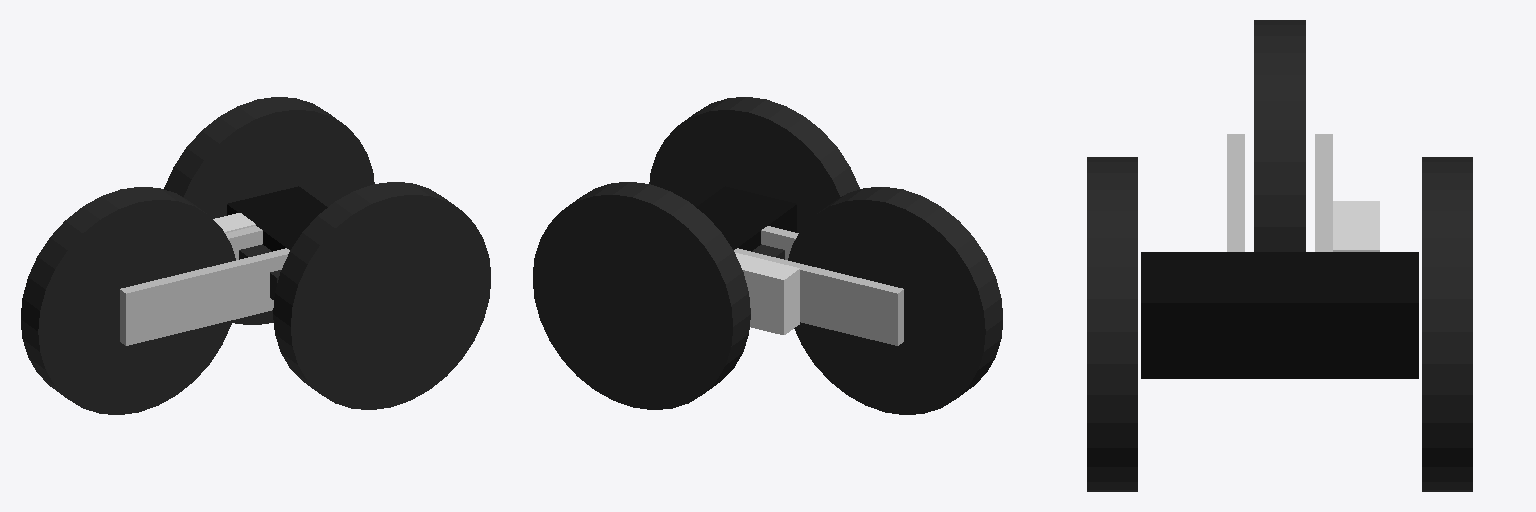
The robot description file, URDF, robot "helhest":
<?xml version="1.0" ?>
<!-- =================================================================================== -->
<!-- |    This document was autogenerated by xacro from [local-path]/helhest/src/helhest-sim/helhest_description/urdf/helhest.urdf.xacro | -->
<!-- |    EDITING THIS FILE BY HAND IS NOT RECOMMENDED                                 | -->
<!-- =================================================================================== -->
<robot name="helhest">
  <!-- soft|omni -->
  <link name="base_link">
    <visual>
      <origin xyz="-0.047 0 0"/>
      <geometry>
        <box size="0.26 0.6 0.18"/>
      </geometry>
      <material name="base_link_color">
        <color rgba="0.1 0.1 0.1 1.0"/>
      </material>
    </visual>
    <collision>
      <origin xyz="-0.047 0 0"/>
      <geometry>
        <box size="0.26 0.6 0.18"/>
      </geometry>
    </collision>
    <inertial>
      <mass value="19"/>
      <origin rpy="0 0 0" xyz="-0.047 0 0"/>
      <inertia ixx="0.6213" ixy="0.0" ixz="0.0" iyy="0.15833333333333333" iyz="0.0" izz="0.6770333333333333"/>
    </inertial>
  </link>
  <link name="base_footprint"/>
  <joint name="base_footprint_j" type="fixed">
    <parent link="base_link"/>
    <child link="base_footprint"/>
    <origin rpy="0 0 0" xyz="0 0 -0.36"/>
  </joint>
  <link name="base_link_center"/>
  <joint name="base_link_center_j" type="fixed">
    <parent link="base_link"/>
    <child link="base_link_center"/>
    <origin rpy="0 0 0" xyz="-0.047 0 0"/>
  </joint>
  <link name="battery">
    <visual>
      <geometry>
        <box size="0.25 0.1 0.19"/>
      </geometry>
      <material name="battery_color">
        <color rgba="0.9 0.9 0.9 1.0"/>
      </material>
    </visual>
    <collision>
      <geometry>
        <box size="0.25 0.1 0.19"/>
      </geometry>
    </collision>
    <inertial>
      <mass value="2"/>
      <origin rpy="0 0 0" xyz="0 0 0"/>
      <inertia ixx="0.007683333333333334" ixy="0.0" ixz="0.0" iyy="0.01643333333333333" iyz="0.0" izz="0.012083333333333335"/>
    </inertial>
  </link>
  <joint name="battery_j" type="fixed">
    <parent link="base_link"/>
    <child link="battery"/>
    <origin rpy="0 0 0" xyz="-0.302 0.165 0"/>
  </joint>
  <link name="left_motor">
    <visual>
      <geometry>
        <box size="0.085 0.24 0.085"/>
      </geometry>
      <material name="left_motor_color">
        <color rgba="0.2 0.2 0.2 1.0"/>
      </material>
    </visual>
    <collision>
      <geometry>
        <box size="0.085 0.24 0.085"/>
      </geometry>
    </collision>
    <inertial>
      <mass value="7"/>
      <origin rpy="0 0 0" xyz="0 0 0"/>
      <inertia ixx="0.037814583333333325" ixy="0.0" ixz="0.0" iyy="0.008429166666666666" iyz="0.0" izz="0.037814583333333325"/>
    </inertial>
  </link>
  <joint name="left_motor_j" type="fixed">
    <origin xyz="-0.09 0.14 0"/>
    <parent link="base_link"/>
    <child link="left_motor"/>
  </joint>
  <link name="right_motor">
    <visual>
      <geometry>
        <box size="0.085 0.24 0.085"/>
      </geometry>
      <material name="right_motor_color">
        <color rgba="0.2 0.2 0.2 1.0"/>
      </material>
    </visual>
    <collision>
      <geometry>
        <box size="0.085 0.24 0.085"/>
      </geometry>
    </collision>
    <inertial>
      <mass value="7"/>
      <origin rpy="0 0 0" xyz="0 0 0"/>
      <inertia ixx="0.037814583333333325" ixy="0.0" ixz="0.0" iyy="0.008429166666666666" iyz="0.0" izz="0.037814583333333325"/>
    </inertial>
  </link>
  <joint name="right_motor_j" type="fixed">
    <origin xyz="-0.09 -0.14 0"/>
    <parent link="base_link"/>
    <child link="right_motor"/>
  </joint>
  <link name="rear_motor">
    <visual>
      <geometry>
        <box size="0.085 0.24 0.085"/>
      </geometry>
      <material name="rear_motor_color">
        <color rgba="0.2 0.2 0.2 1.0"/>
      </material>
    </visual>
    <collision>
      <geometry>
        <box size="0.085 0.24 0.085"/>
      </geometry>
    </collision>
    <inertial>
      <mass value="7"/>
      <origin rpy="0 0 0" xyz="0 0 0"/>
      <inertia ixx="0.037814583333333325" ixy="0.0" ixz="0.0" iyy="0.008429166666666666" iyz="0.0" izz="0.037814583333333325"/>
    </inertial>
  </link>
  <joint name="rear_motor_j" type="fixed">
    <origin xyz="-0.22 -0.04 0"/>
    <parent link="base_link"/>
    <child link="rear_motor"/>
  </joint>
  <link name="left_wheel">
    <visual>
      <origin rpy="1.5707963267948966 0 0"/>
      <geometry>
        <cylinder length="0.11" radius="0.36"/>
      </geometry>
      <material name="left_wheel_color">
        <color rgba="0.2 0.2 0.2 1.0"/>
      </material>
    </visual>
    <collision>
      <origin rpy="1.5707963267948966 0 0"/>
      <geometry>
        <cylinder length="0.11" radius="0.36"/>
      </geometry>
    </collision>
    <inertial>
      <mass value="6"/>
      <origin rpy="1.5707963267948966 0 0" xyz="0 0 0"/>
      <inertia ixx="0.20045000000000002" ixy="0.0" ixz="0.0" iyy="0.20045000000000002" iyz="0.0" izz="0.38880000000000003"/>
    </inertial>
  </link>
  <joint name="left_wheel_j" type="continuous">
    <origin xyz="0.0 0.36 0"/>
    <parent link="base_link"/>
    <child link="left_wheel"/>
    <axis xyz="0 1 0"/>
  </joint>
  <ros2_control name="left_wheel_controller" type="system">
    <hardware>
      <plugin>gz_ros2_control/GazeboSimSystem</plugin>
    </hardware>
    <joint name="left_wheel_j">
      <state_interface name="velocity"/>
      <state_interface name="position"/>
      <command_interface name="velocity"/>
    </joint>
  </ros2_control>
  <link name="right_wheel">
    <visual>
      <origin rpy="1.5707963267948966 0 0"/>
      <geometry>
        <cylinder length="0.11" radius="0.36"/>
      </geometry>
      <material name="right_wheel_color">
        <color rgba="0.2 0.2 0.2 1.0"/>
      </material>
    </visual>
    <collision>
      <origin rpy="1.5707963267948966 0 0"/>
      <geometry>
        <cylinder length="0.11" radius="0.36"/>
      </geometry>
    </collision>
    <inertial>
      <mass value="6"/>
      <origin rpy="1.5707963267948966 0 0" xyz="0 0 0"/>
      <inertia ixx="0.20045000000000002" ixy="0.0" ixz="0.0" iyy="0.20045000000000002" iyz="0.0" izz="0.38880000000000003"/>
    </inertial>
  </link>
  <joint name="right_wheel_j" type="continuous">
    <origin xyz="0.0 -0.36 0"/>
    <parent link="base_link"/>
    <child link="right_wheel"/>
    <axis xyz="0 1 0"/>
  </joint>
  <ros2_control name="right_wheel_controller" type="system">
    <hardware>
      <plugin>gz_ros2_control/GazeboSimSystem</plugin>
    </hardware>
    <joint name="right_wheel_j">
      <state_interface name="velocity"/>
      <state_interface name="position"/>
      <command_interface name="velocity"/>
    </joint>
  </ros2_control>
  <link name="rear_wheel">
    <visual>
      <origin rpy="1.5707963267948966 0 0"/>
      <geometry>
        <cylinder length="0.11" radius="0.36"/>
      </geometry>
      <material name="rear_wheel_color">
        <color rgba="0.2 0.2 0.2 1.0"/>
      </material>
    </visual>
    <collision>
      <origin rpy="1.5707963267948966 0 0"/>
      <geometry>
        <cylinder length="0.11" radius="0.36"/>
      </geometry>
    </collision>
    <inertial>
      <mass value="6"/>
      <origin rpy="1.5707963267948966 0 0" xyz="0 0 0"/>
      <inertia ixx="0.20045000000000002" ixy="0.0" ixz="0.0" iyy="0.20045000000000002" iyz="0.0" izz="0.38880000000000003"/>
    </inertial>
  </link>
  <joint name="rear_wheel_j" type="continuous">
    <origin rpy="0 0 0" xyz="-0.697 0 0"/>
    <parent link="base_link"/>
    <child link="rear_wheel"/>
    <axis xyz="0 1 0"/>
  </joint>
  <ros2_control name="rear_wheel_controller" type="system">
    <hardware>
      <plugin>gz_ros2_control/GazeboSimSystem</plugin>
    </hardware>
    <joint name="rear_wheel_j">
      <state_interface name="velocity"/>
      <state_interface name="position"/>
      <command_interface name="velocity"/>
    </joint>
  </ros2_control>
  <link name="left_wheel_holder">
    <visual>
      <geometry>
        <box size="0.6 0.04 0.18"/>
      </geometry>
      <material name="left_wheel_holder_color">
        <color rgba="0.8 0.8 0.8 1.0"/>
      </material>
    </visual>
    <collision>
      <geometry>
        <box size="0.6 0.04 0.18"/>
      </geometry>
    </collision>
    <inertial>
      <mass value="3"/>
      <origin rpy="0 0 0" xyz="0 0 0"/>
      <inertia ixx="0.008499999999999999" ixy="0.0" ixz="0.0" iyy="0.09809999999999999" iyz="0.0" izz="0.0904"/>
    </inertial>
  </link>
  <joint name="left_wheel_holder_j" type="fixed">
    <parent link="base_link"/>
    <child link="left_wheel_holder"/>
    <origin rpy="0 0 0" xyz="-0.477 0.095 0.0"/>
  </joint>
  <link name="right_wheel_holder">
    <visual>
      <geometry>
        <box size="0.6 0.04 0.18"/>
      </geometry>
      <material name="right_wheel_holder_color">
        <color rgba="0.8 0.8 0.8 1.0"/>
      </material>
    </visual>
    <collision>
      <geometry>
        <box size="0.6 0.04 0.18"/>
      </geometry>
    </collision>
    <inertial>
      <mass value="3"/>
      <origin rpy="0 0 0" xyz="0 0 0"/>
      <inertia ixx="0.008499999999999999" ixy="0.0" ixz="0.0" iyy="0.09809999999999999" iyz="0.0" izz="0.0904"/>
    </inertial>
  </link>
  <joint name="right_wheel_holder_j" type="fixed">
    <parent link="base_link"/>
    <child link="right_wheel_holder"/>
    <origin rpy="0 0 0" xyz="-0.477 -0.095 0.0"/>
  </joint>
  <joint name="imu_j" type="fixed">
    <parent link="base_link"/>
    <child link="imu"/>
    <origin rpy="0 0 0" xyz="0 0 0"/>
  </joint>
  <!-- workaround for https://github.com/osrf/sdformat/issues/378 -->
  <gazebo reference="imu_j">
    <preserveFixedJoint>true</preserveFixedJoint>
  </gazebo>
  <link name="imu">
    <inertial>
      <origin rpy="0 0 0" xyz="0 0 0"/>
      <mass value="1e-5"/>
      <inertia ixx="1e-3" ixy="1e-6" ixz="1e-6" iyy="1e-3" iyz="1e-6" izz="1e-3"/>
    </inertial>
    <selfCollide>false</selfCollide>
  </link>
  <gazebo reference="imu">
    <sensor name="imu" type="imu">
      <always_on>true</always_on>
      <update_rate>100</update_rate>
      <imu>
        <angular_velocity>
          <x>
            <noise type="gaussian">
              <mean>0.0</mean>
              <stddev>0.0</stddev>
            </noise>
          </x>
          <y>
            <noise type="gaussian">
              <mean>0.0</mean>
              <stddev>0.0</stddev>
            </noise>
          </y>
          <z>
            <noise type="gaussian">
              <mean>0.0</mean>
              <stddev>0.0</stddev>
            </noise>
          </z>
        </angular_velocity>
        <linear_acceleration>
          <x>
            <noise type="gaussian">
              <mean>0.0</mean>
              <stddev>0.0</stddev>
            </noise>
          </x>
          <y>
            <noise type="gaussian">
              <mean>0.0</mean>
              <stddev>0.0</stddev>
            </noise>
          </y>
          <z>
            <noise type="gaussian">
              <mean>0.0</mean>
              <stddev>0.0</stddev>
            </noise>
          </z>
        </linear_acceleration>
      </imu>
    </sensor>
  </gazebo>
</robot>

--- Render facts (derived) ---
Views: 3 orthographic renders of the robot side by side, from view 1: azimuth 30°, elevation 25°; view 2: azimuth 150°, elevation 25°; view 3: azimuth 270°, elevation 25°.
Model helhest with 13 links and 12 joints (3 continuous, 9 fixed), rooted at base_link, posed all joints at 0.
Visible links, largest first — view 1: right_wheel, rear_wheel, left_wheel, right_wheel_holder, base_link, left_wheel_holder; view 2: left_wheel, rear_wheel, right_wheel, left_wheel_holder, base_link, battery, right_wheel_holder; view 3: base_link, left_wheel, right_wheel, rear_wheel, battery, left_wheel_holder, right_wheel_holder.
Boxes of the visible links, left/top/right/bottom form: right_wheel: left=273, top=182, right=490, bottom=409; rear_wheel: left=21, top=187, right=235, bottom=414; left_wheel: left=164, top=97, right=374, bottom=324; right_wheel_holder: left=120, top=248, right=289, bottom=345; base_link: left=227, top=186, right=327, bottom=251; left_wheel_holder: left=225, top=226, right=262, bottom=259; left_wheel: left=533, top=182, right=750, bottom=409; rear_wheel: left=788, top=187, right=1002, bottom=414; right_wheel: left=649, top=97, right=859, bottom=232; left_wheel_holder: left=734, top=248, right=903, bottom=345; base_link: left=696, top=186, right=796, bottom=251; battery: left=735, top=253, right=799, bottom=334; right_wheel_holder: left=761, top=226, right=798, bottom=259; base_link: left=1141, top=252, right=1418, bottom=378; left_wheel: left=1422, top=157, right=1472, bottom=491; right_wheel: left=1087, top=157, right=1137, bottom=491; rear_wheel: left=1254, top=20, right=1305, bottom=251; battery: left=1333, top=201, right=1379, bottom=251; left_wheel_holder: left=1315, top=134, right=1332, bottom=251; right_wheel_holder: left=1227, top=134, right=1244, bottom=251.
Bounding box of the posed robot: 1.42 × 0.83 × 0.72 m (x, y, z).
Geometry: primitives only (box / cylinder / sphere), no mesh files.
